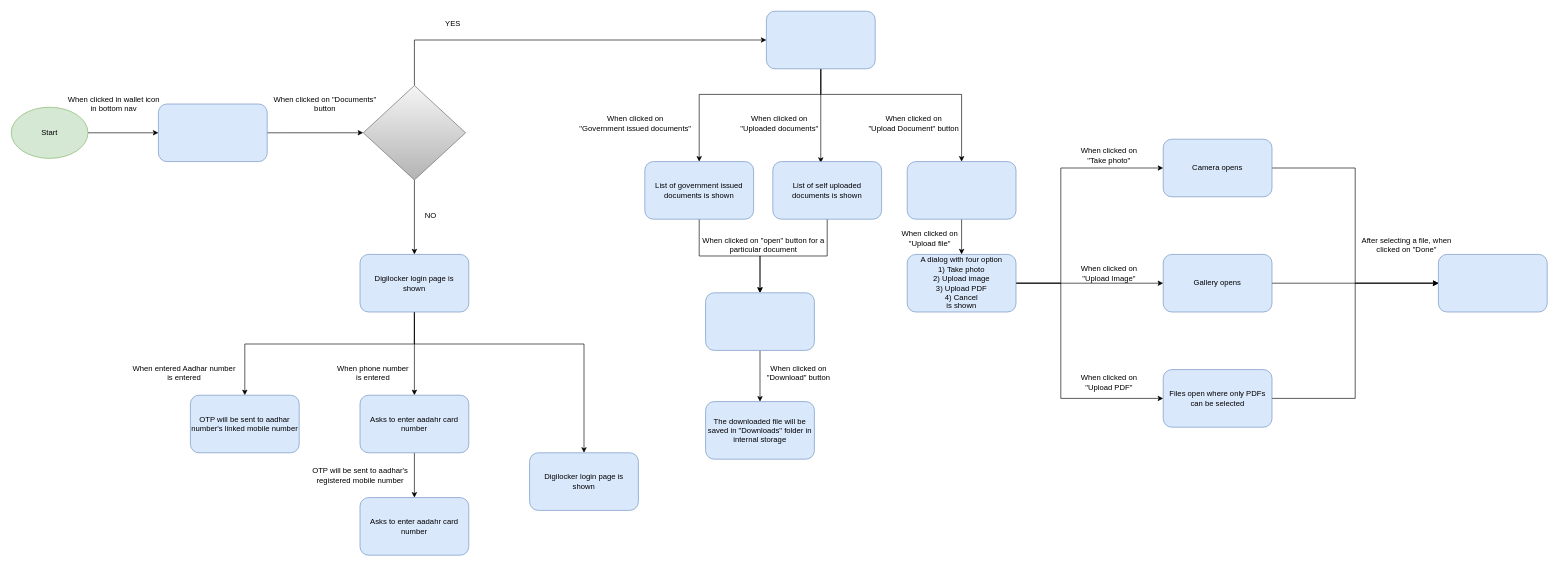
Some shapes in this 1558 by 566 pixel diagram are drawn without their labels. Here are the shapes that lost their labels. From the top down, the box of each, then its label:
(766, 11, 875, 69): Digilocker details page is shown
(158, 103, 267, 162): Wallet screen is displayed
(363, 85, 466, 180): When digiloacker details are already available
(907, 161, 1016, 219): A dialog appears to capture or upload files to digilocer
(1438, 254, 1547, 312): Upload successful is displayed
(705, 292, 814, 350): Document details and a Download button are shown
